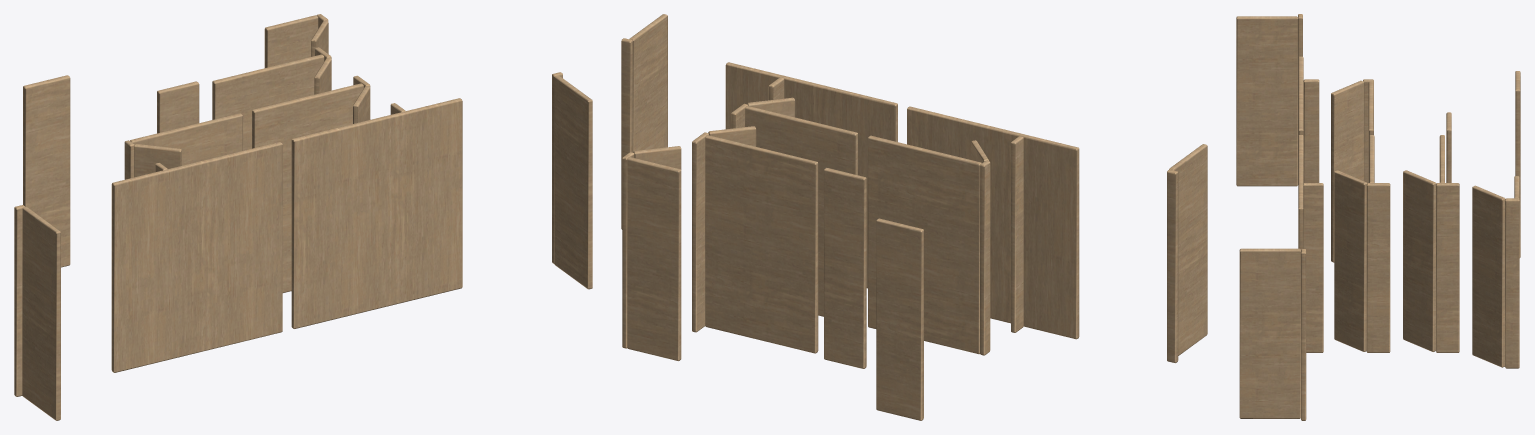
File: Stalls_01.fbx
The picture shows the model from 3 angles, left to right: view 1: azimuth 30°, elevation 25°; view 2: azimuth 150°, elevation 25°; view 3: azimuth 270°, elevation 25°; orthographic projection. The views are drawn at different scales.
Parts seen in each view (by area): view 1: BathroomStalls_01; view 2: BathroomStalls_01; view 3: BathroomStalls_01.
Boxes of the visible parts, <box> form: BathroomStalls_01: <box>14,14,592,420</box>; BathroomStalls_01: <box>621,14,1207,420</box>; BathroomStalls_01: <box>1236,14,1520,420</box>.
Size of the model in its own units: 665 by 219 by 334.
Materials: 1 (1 with a texture image).
